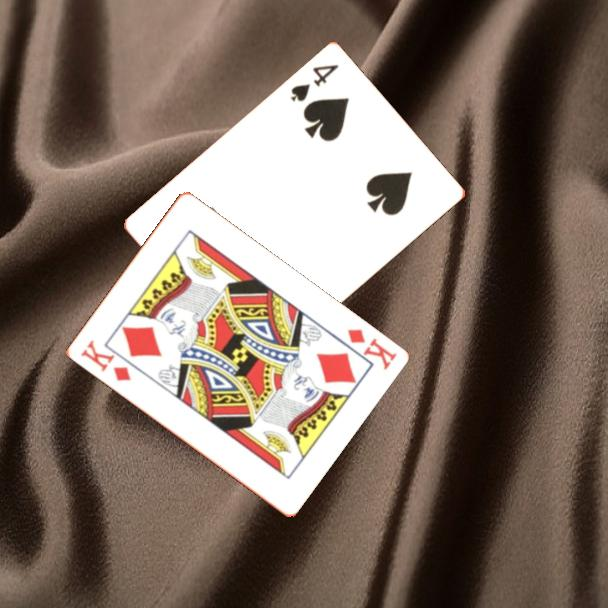d13: (77, 336, 133, 384), (343, 325, 399, 373)
s04: (287, 61, 342, 105)
